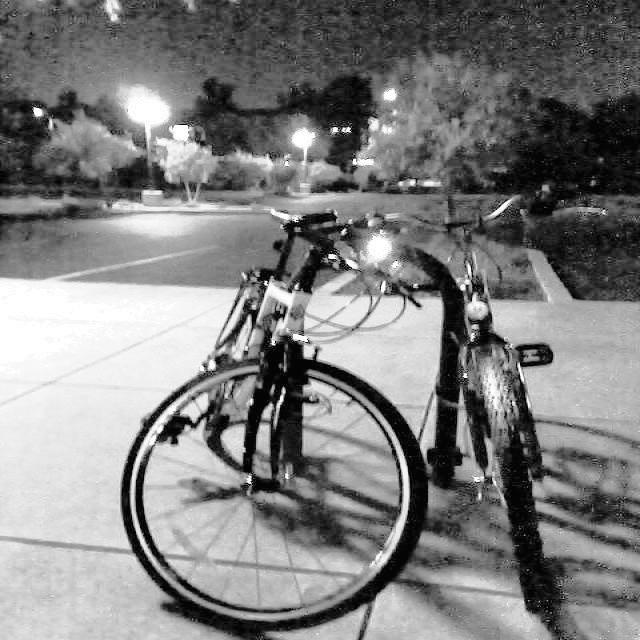Bicycle: (125, 193, 433, 636), (412, 207, 640, 522)
